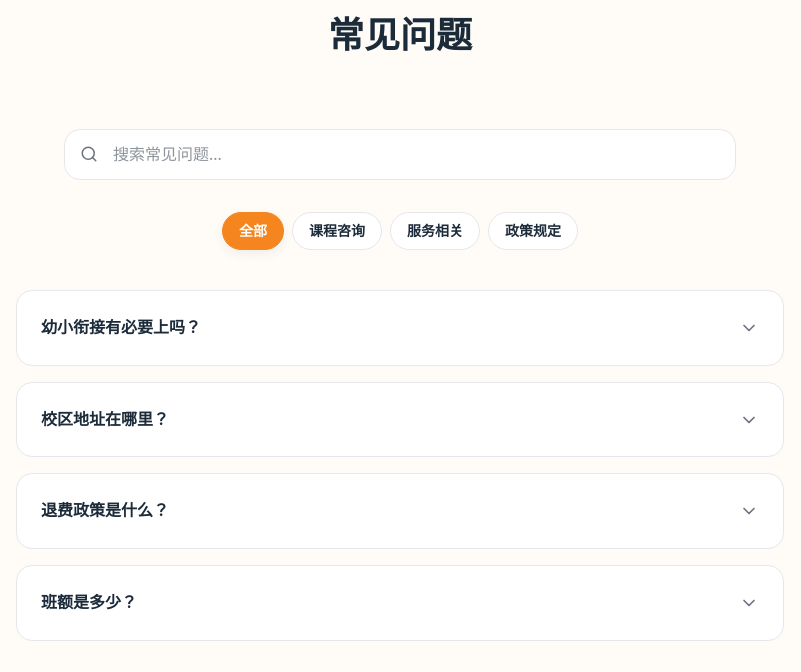
Test: Faq 组件 › 展开 FAQ 后显示"有用/没用"反馈按钮
Click the button "幼小衔接有必要上吗？".
click(121, 327)  # box left=17, top=291, right=783, bottom=365
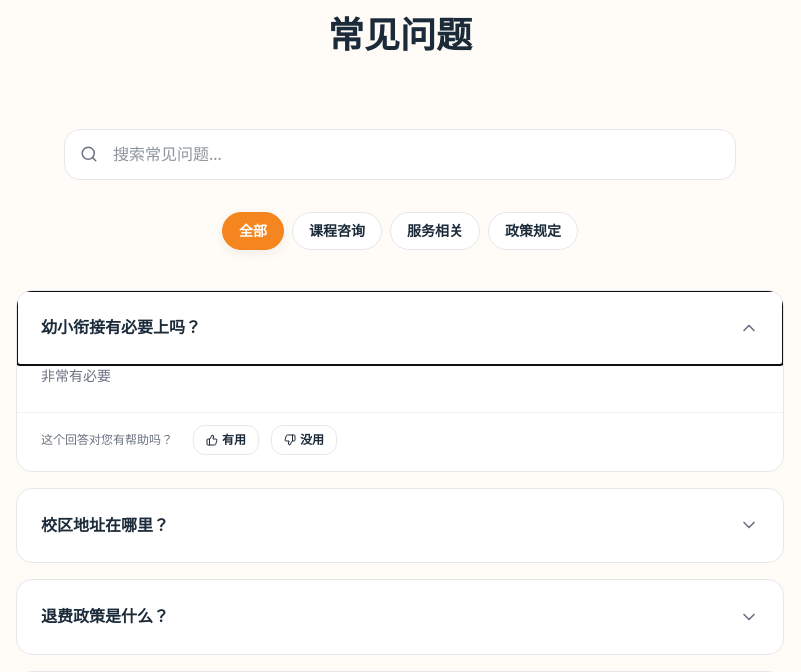
Expected: the button "有用" is shown, left=193, top=424, right=259, bottom=454
Expected: the button "没用" is shown, left=271, top=424, right=337, bottom=454
